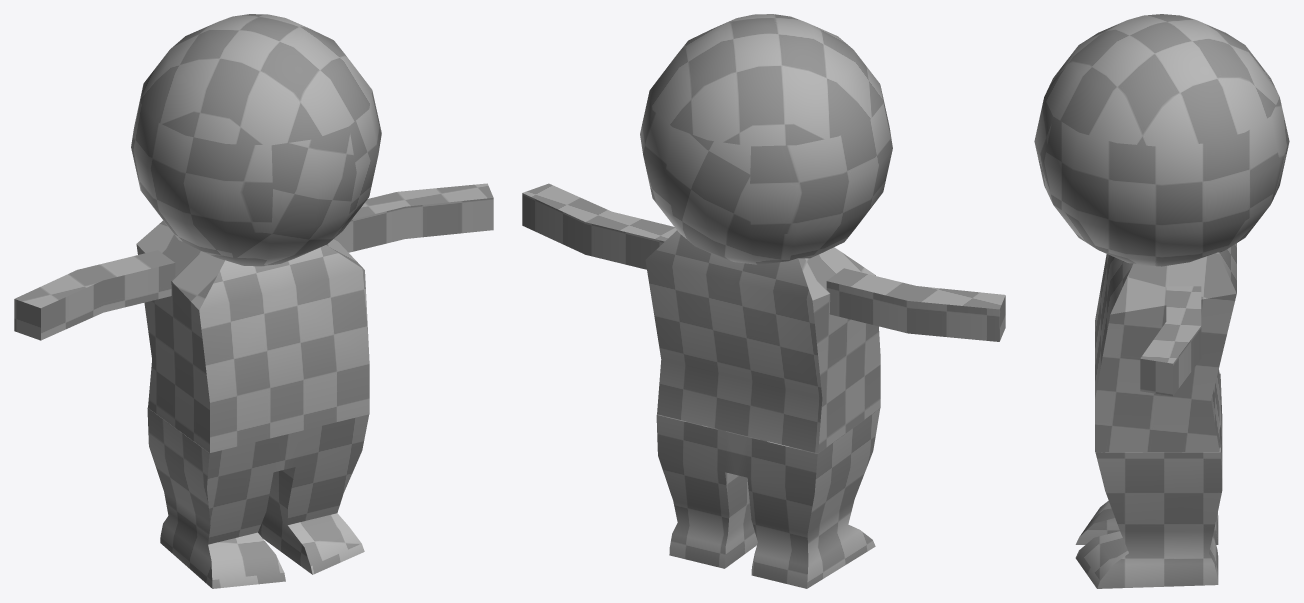
Rendered from enfant_blocking.FBX.
3 renders of one model, left to right at view 1: azimuth 30°, elevation 25°; view 2: azimuth 150°, elevation 25°; view 3: azimuth 270°, elevation 25°, orthographic.
Visible parts, largest first — view 1: charMasc005; view 2: charMasc005; view 3: charMasc005.
Part boxes in pixels (bbox=[...]): charMasc005: bbox=[14, 14, 493, 588]; charMasc005: bbox=[522, 14, 1005, 588]; charMasc005: bbox=[1034, 14, 1289, 588].
Bounding box in the file's own units: 78.25 × 82.36 × 36.23.
